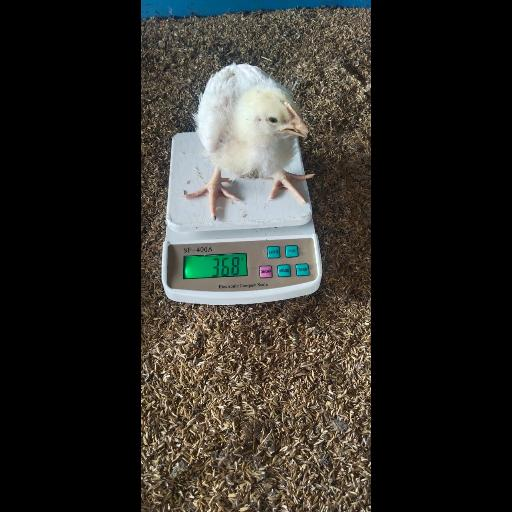chick: (185, 62, 313, 221)
